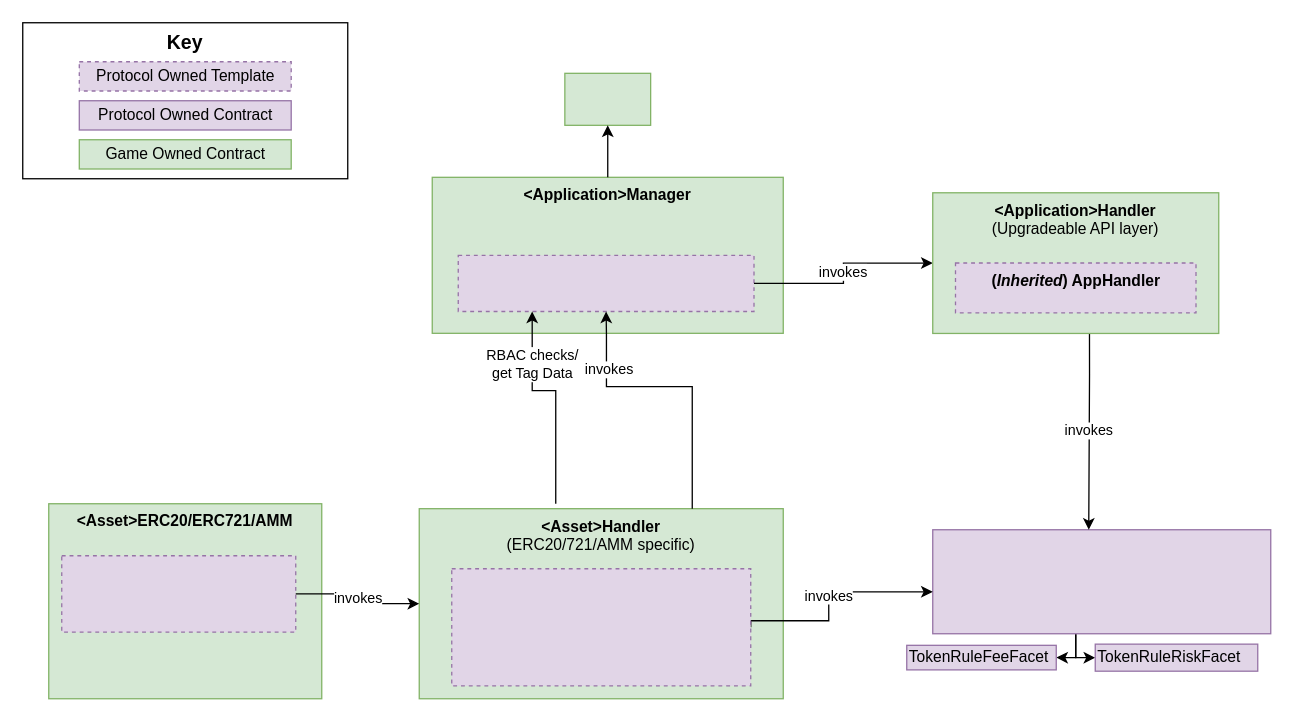
The diagram is 1294 pixels wide and 722 high, and some of its shapes have lost their labels. The shapes that lost their labels are listed below. From the top down, each one's centre as x and y in pixels, then its label:
point (607, 98): Data Contracts
point (605, 282): ( Inherited ) AppManager
point (178, 593): ( Inherited ) Protocol<Type> (ERC20/721/AMM specific)
point (1101, 581): RuleProcessorDiamond
point (600, 626): ( Inherited ) <Type>Handler (ERC20/721/AMM specific)
